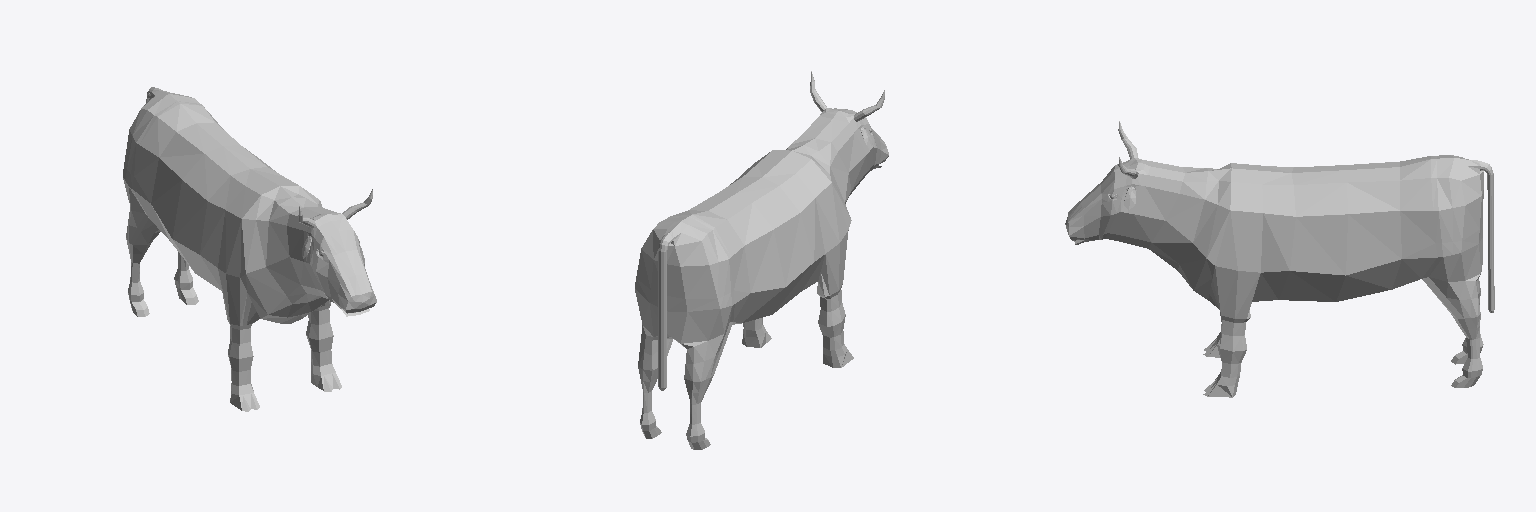
File: 002_BullNew.obj
3 views of the same model, side by side, from view 1: azimuth 30°, elevation 25°; view 2: azimuth 150°, elevation 25°; view 3: azimuth 270°, elevation 25° (orthographic).
Visible parts, largest first — view 1: Boi.001; view 2: Boi.001; view 3: Boi.001.
Boxes of the visible parts, x1=… form: Boi.001: x1=123, y1=87, x2=376, y2=411; Boi.001: x1=635, y1=71, x2=888, y2=449; Boi.001: x1=1065, y1=121, x2=1494, y2=397.
Bounding box in the file's own units: 11.97 × 26.23 × 43.4.